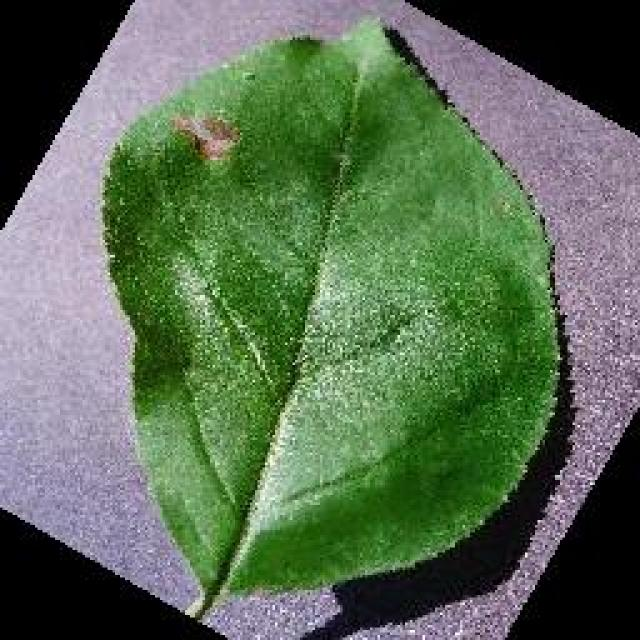Black_rot: (98, 12, 562, 620)
